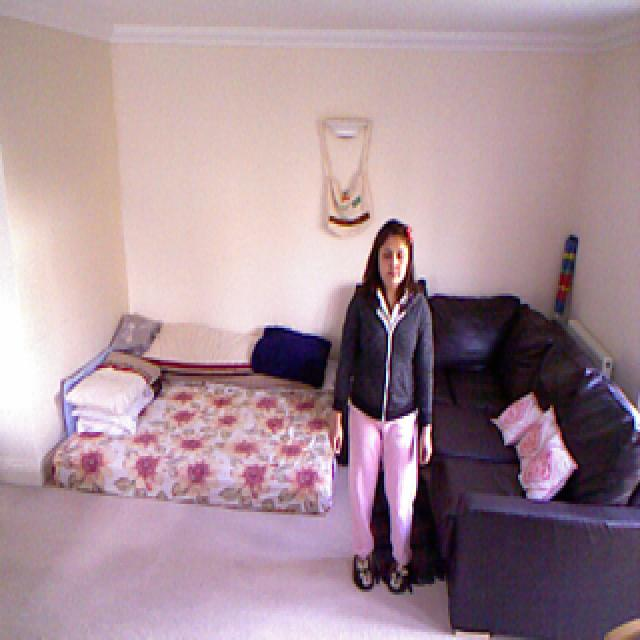stand: (347, 210, 433, 601)
